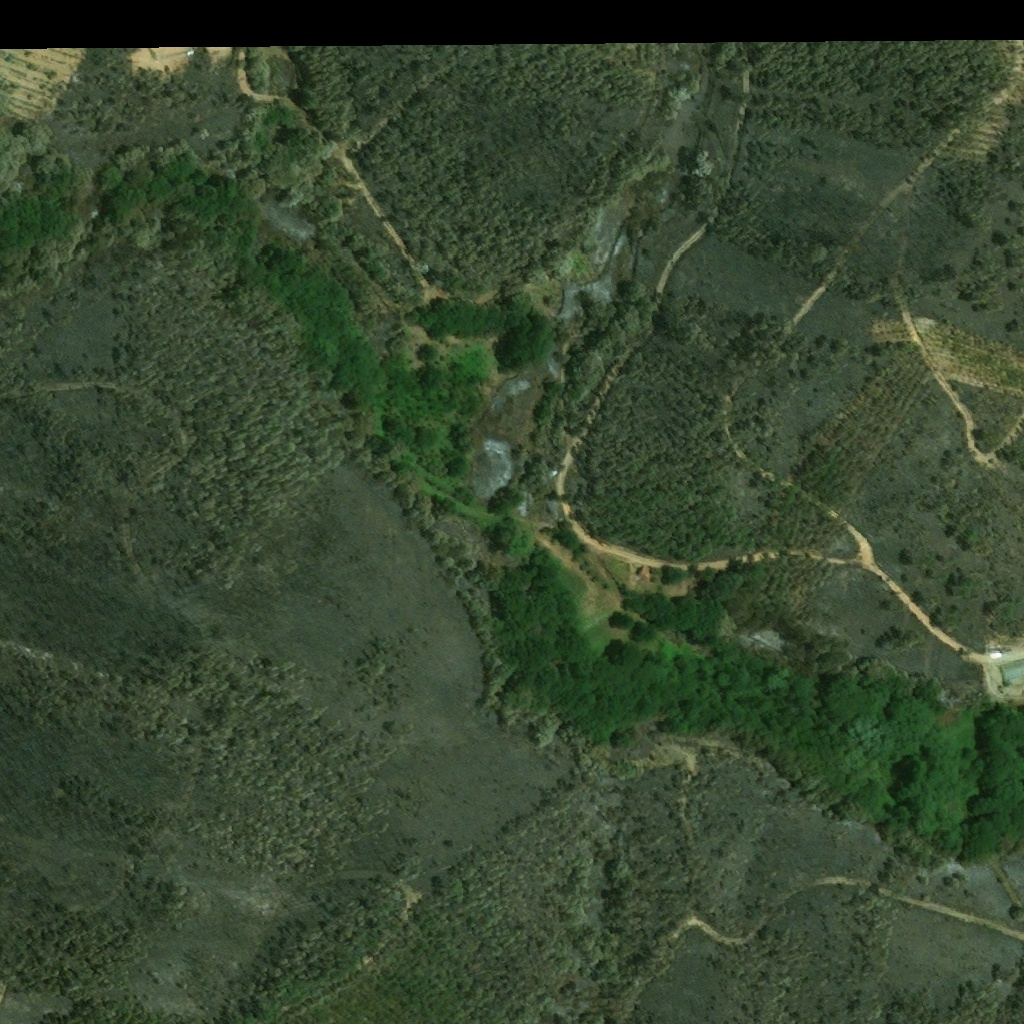0 no-damage: (639, 566, 654, 579)
